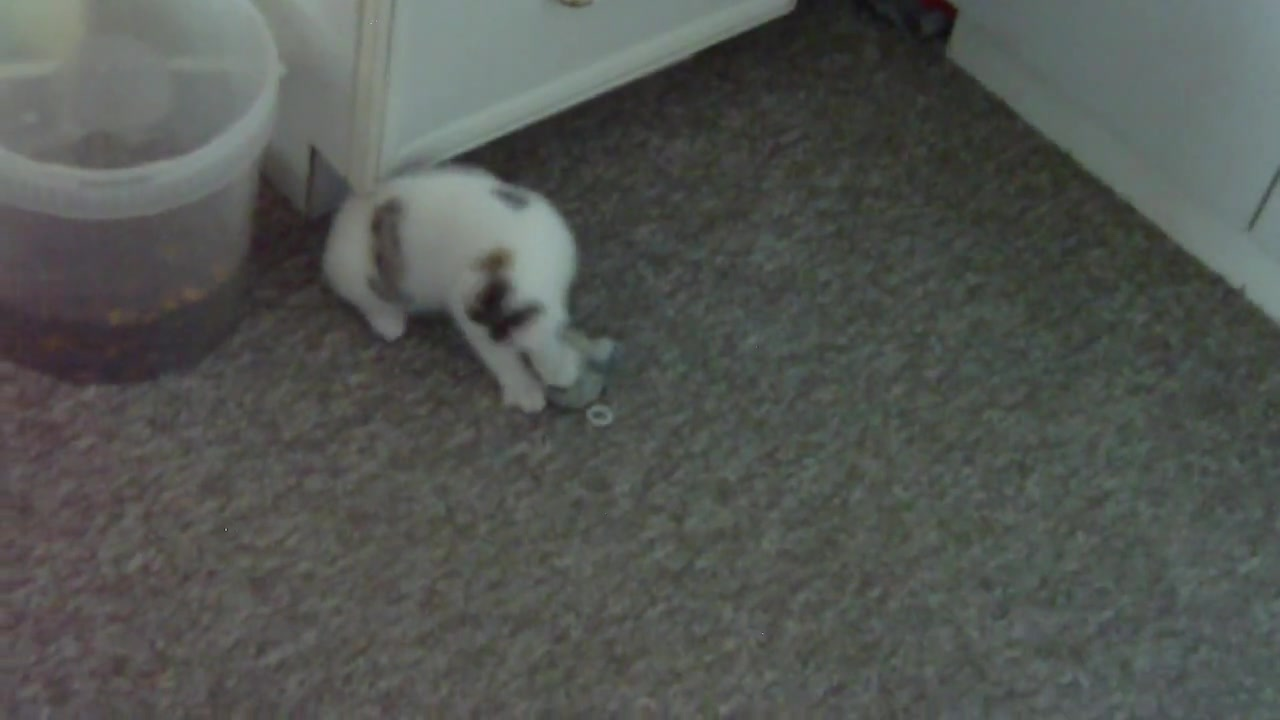cat: (320, 167, 618, 420)
